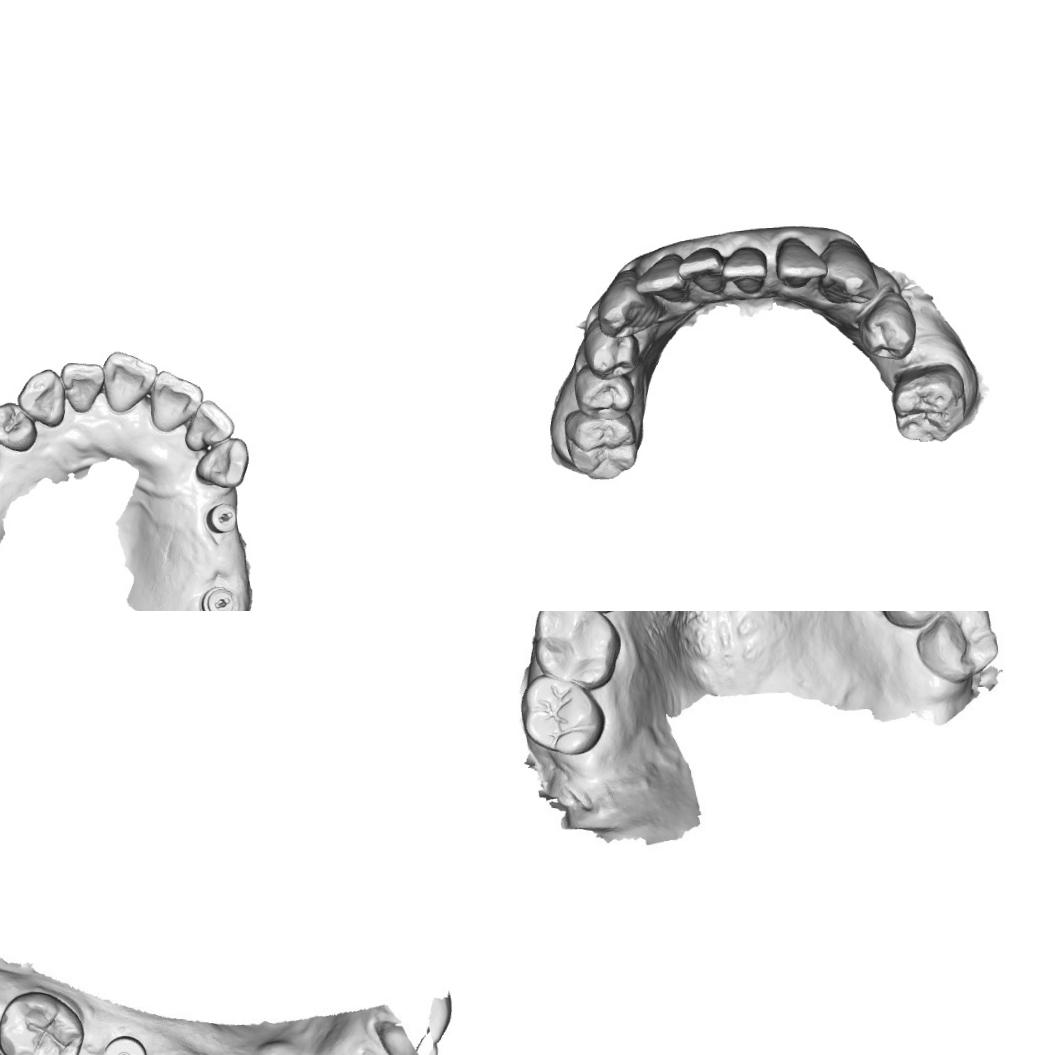canine: (594, 269, 660, 338), (817, 237, 880, 306), (14, 366, 68, 430), (193, 436, 252, 490)
implant: (98, 1026, 152, 1055)
implant_minus: (204, 500, 240, 536), (198, 583, 237, 611)
incisor: (100, 348, 160, 414), (149, 367, 206, 434), (634, 252, 689, 307), (182, 397, 236, 452), (774, 236, 828, 290), (59, 359, 107, 415), (677, 246, 725, 297), (722, 244, 770, 295)
molar: (518, 674, 608, 758), (531, 611, 623, 693), (912, 611, 1001, 688), (890, 362, 968, 444), (0, 987, 88, 1055), (562, 408, 638, 452), (567, 443, 639, 482)
premolar: (856, 288, 918, 363), (572, 372, 637, 421), (581, 332, 641, 380), (0, 398, 38, 454)
